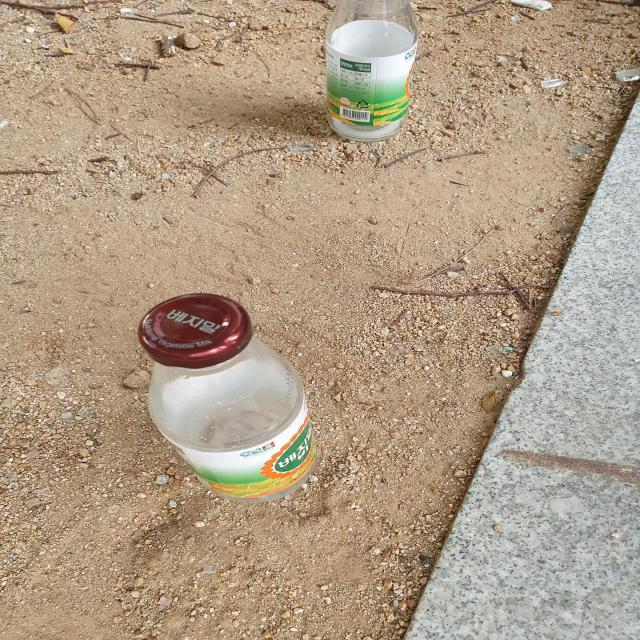glass: (137, 294, 316, 503), (326, 0, 418, 140)
